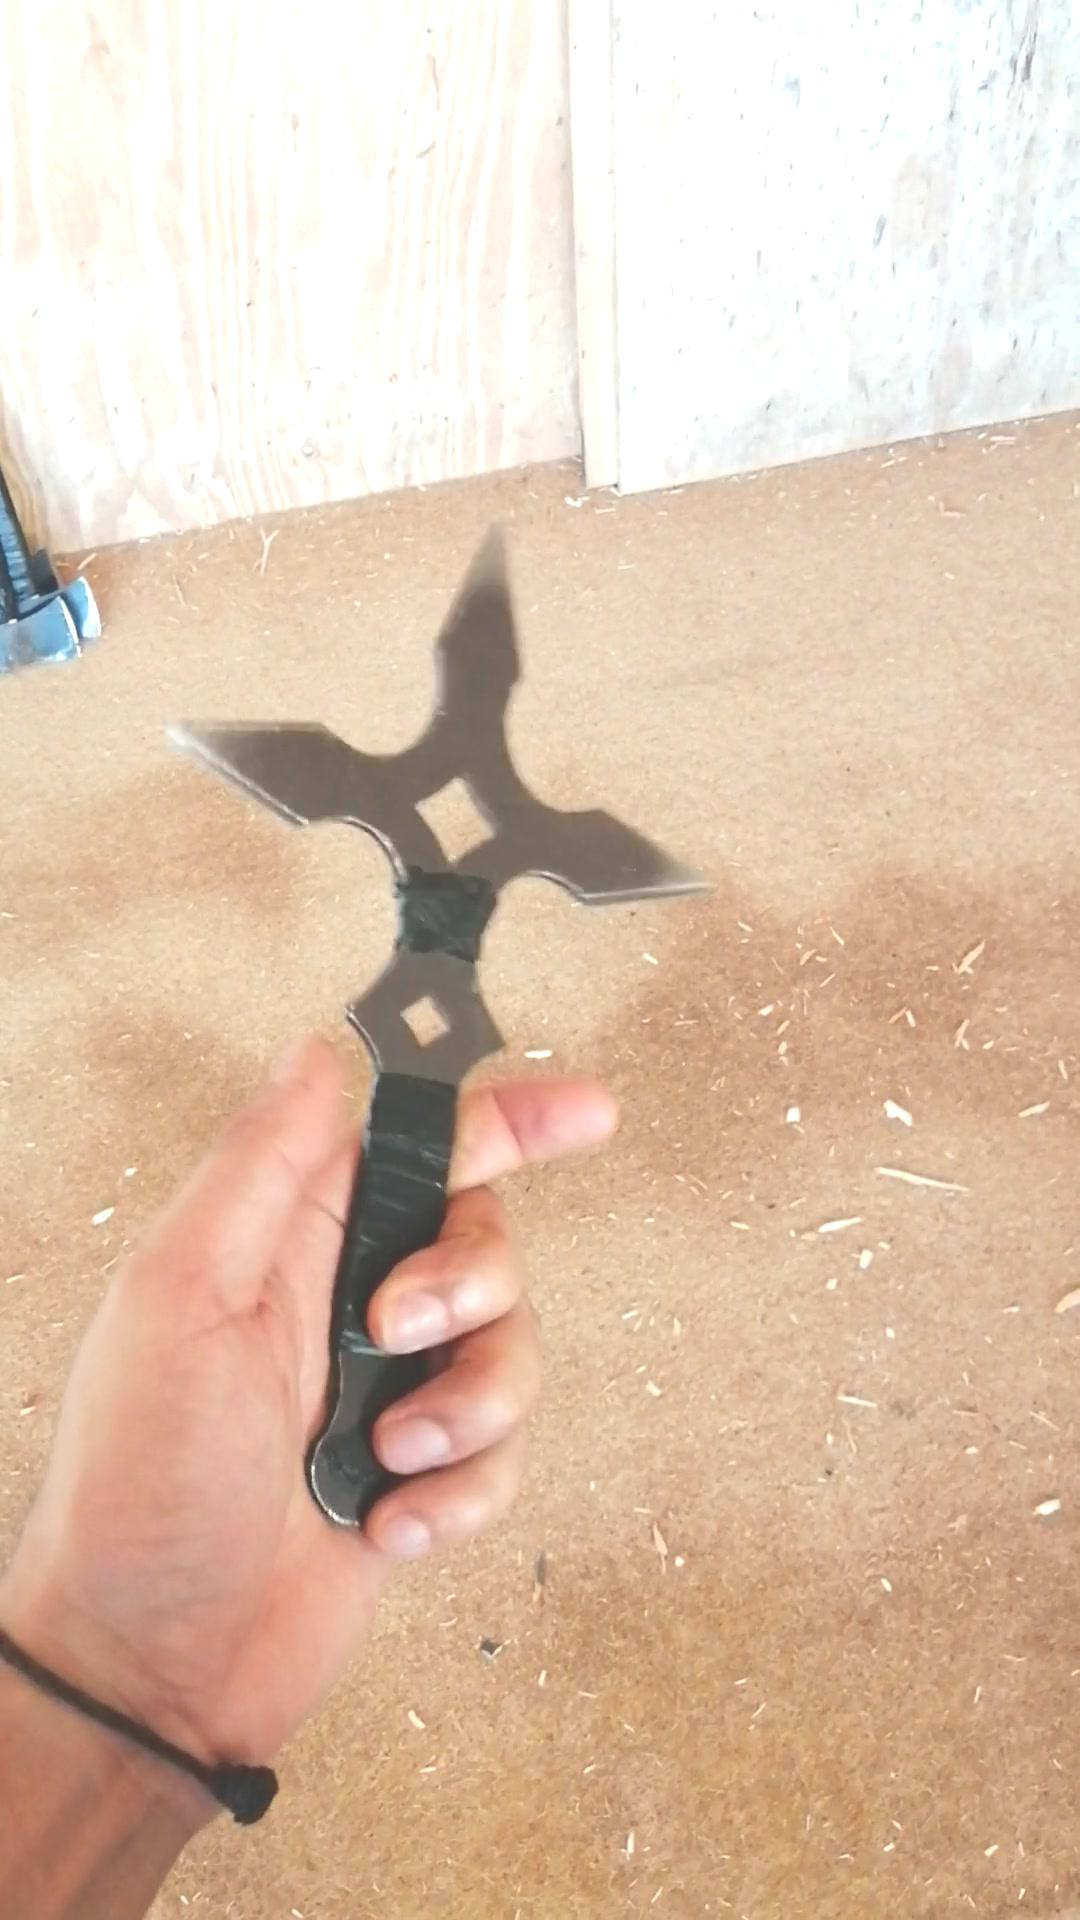Hand Axe: (171, 513, 715, 1535), (0, 595, 86, 673)
